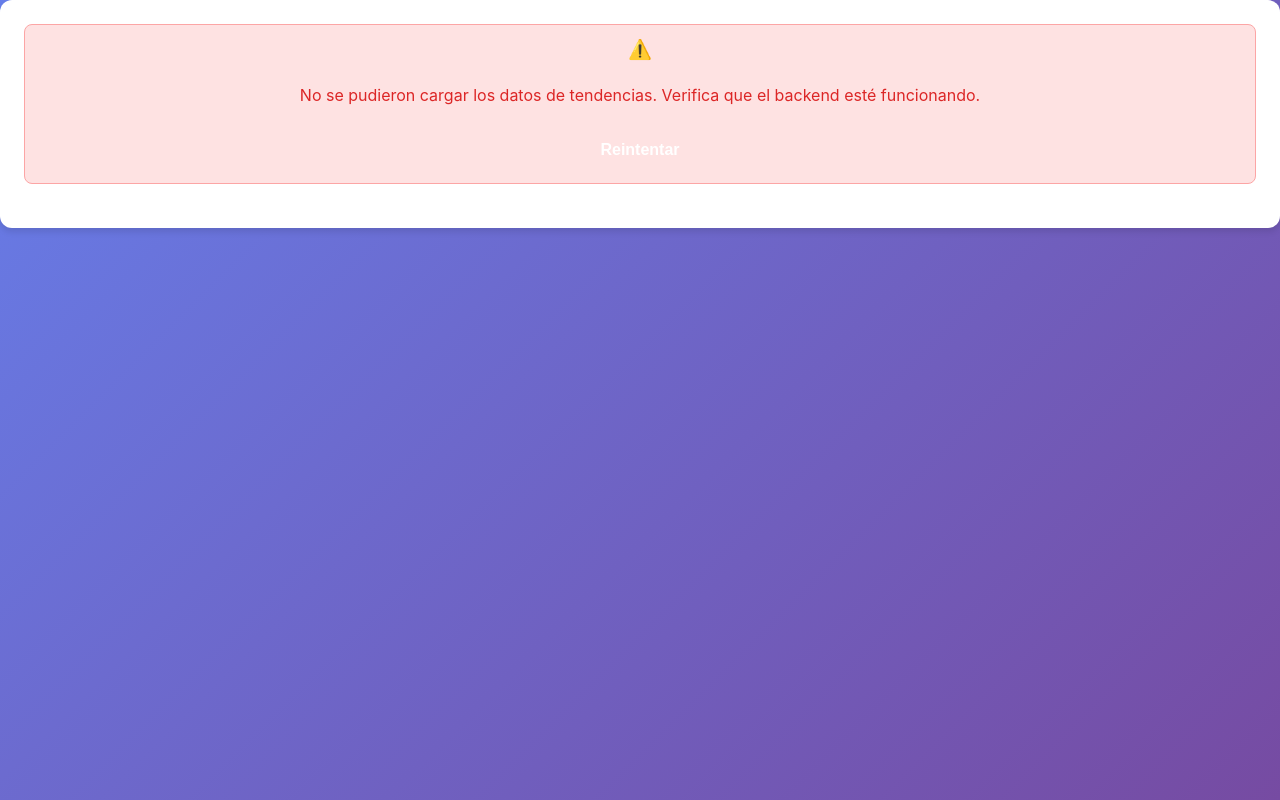
Scenario: TemporalTrends › muestra mensaje de error y permite reintentar
Expected: the text "No se pudieron cargar los datos de tendencias" is shown, [300, 85, 980, 105]
Click the button "Reintentar" at coordinates (640, 150), box [576, 129, 704, 171]
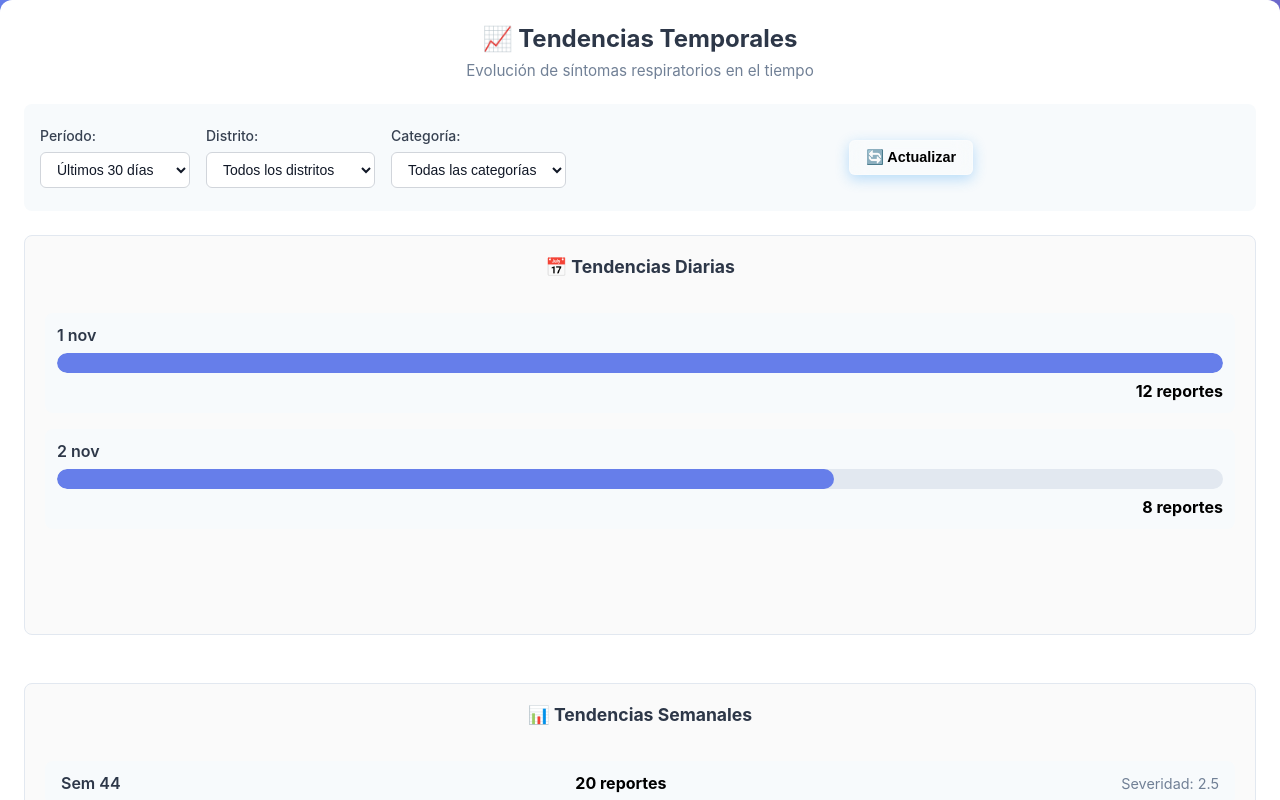
Result: the heading "📅 Tendencias Diarias" is shown at [545, 256, 735, 277]
